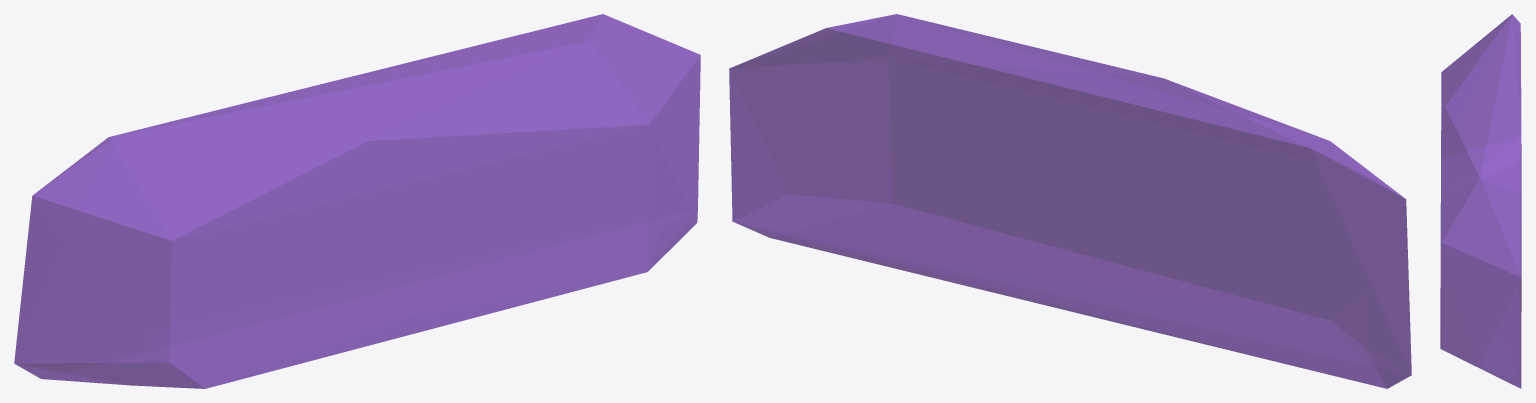
The picture shows the model from 3 angles, left to right: view 1: azimuth 30°, elevation 25°; view 2: azimuth 150°, elevation 25°; view 3: azimuth 270°, elevation 25°; orthographic projection. The views are drawn at different scales.
Parts seen in each view (by area): view 1: Shape_IndexedFaceSet.022_Shape_IndexedFaceSet.4963; view 2: Shape_IndexedFaceSet.022_Shape_IndexedFaceSet.4963; view 3: Shape_IndexedFaceSet.022_Shape_IndexedFaceSet.4963.
Boxes of the visible parts, box(x1,y1,x2,y2) form: Shape_IndexedFaceSet.022_Shape_IndexedFaceSet.4963: box(14, 14, 700, 388); Shape_IndexedFaceSet.022_Shape_IndexedFaceSet.4963: box(729, 14, 1411, 388); Shape_IndexedFaceSet.022_Shape_IndexedFaceSet.4963: box(1440, 14, 1521, 388).
Bounding box in the file's own units: 0.2277 × 0.073 × 0.032.
